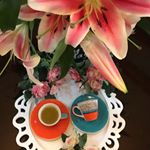cups: (36, 102, 69, 128), (70, 98, 102, 123)
